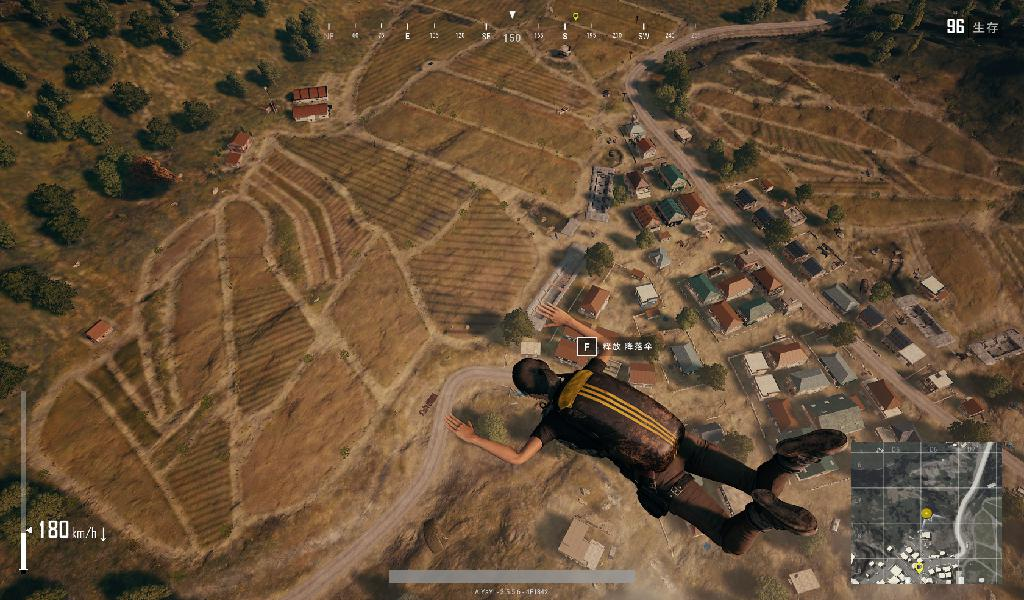Target Person: (444, 301, 852, 555)
